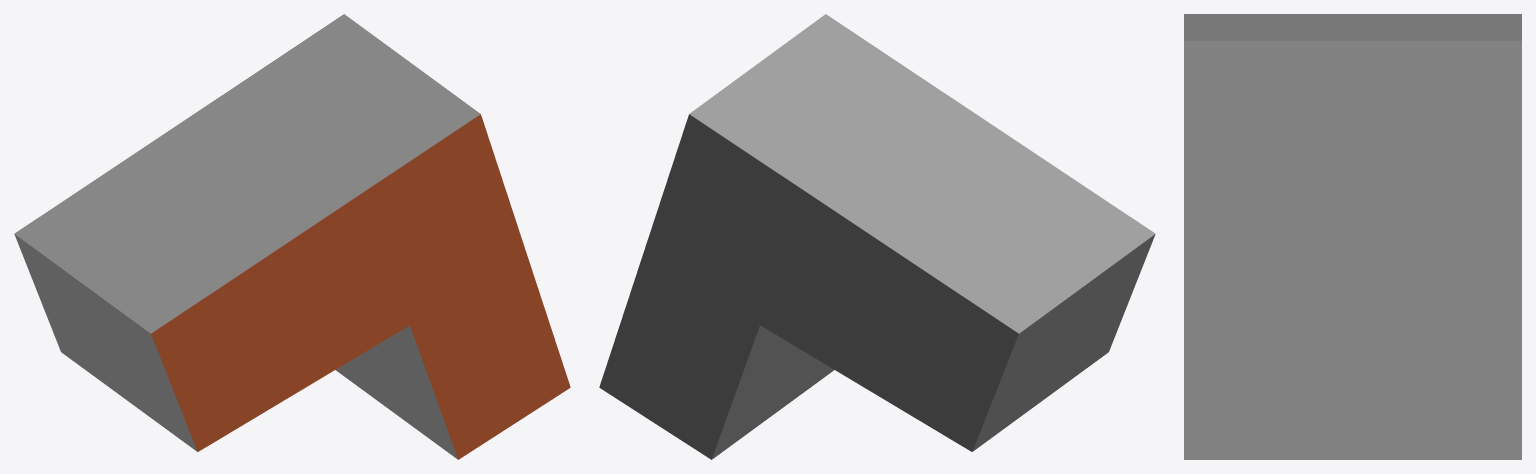
Rendered from construction_1216_assumed_A_Casa_h6m.obj.
The picture shows the model from 3 angles, left to right: view 1: azimuth 30°, elevation 25°; view 2: azimuth 150°, elevation 25°; view 3: azimuth 270°, elevation 25°; orthographic projection. The views are drawn at different scales.
Parts seen in each view (by area): view 1: construction_1216_assumed_A_Casa; view 2: construction_1216_assumed_A_Casa; view 3: construction_1216_assumed_A_Casa.
Boxes of the visible parts, x1,y1,x2,y2 form: construction_1216_assumed_A_Casa: (14, 14, 570, 459); construction_1216_assumed_A_Casa: (599, 14, 1155, 459); construction_1216_assumed_A_Casa: (1184, 14, 1521, 459).
Bounding box in the file's own units: 10.64 × 8.24 × 6.
